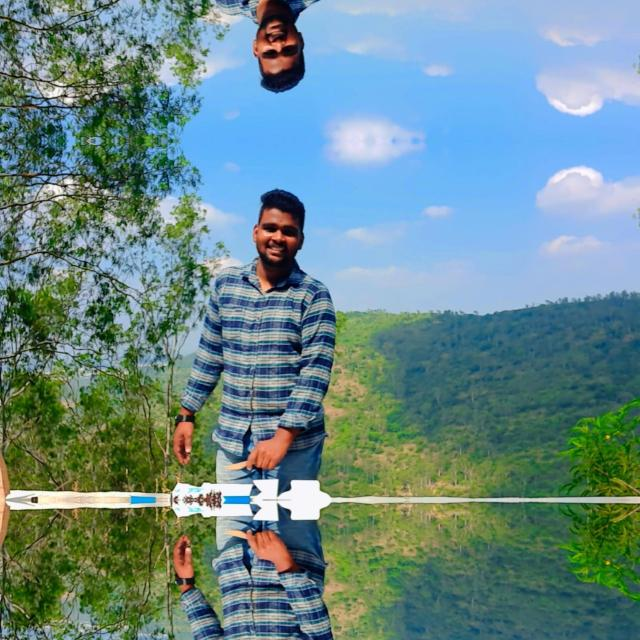person: (180, 185, 356, 499), (180, 500, 355, 640), (180, 0, 355, 95)
